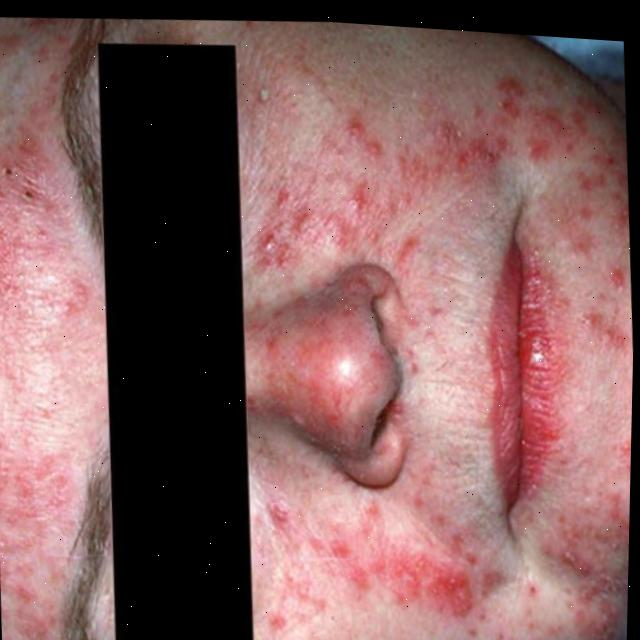Rosacea: (238, 53, 635, 297), (238, 412, 631, 640), (0, 13, 96, 640), (241, 274, 388, 459)
